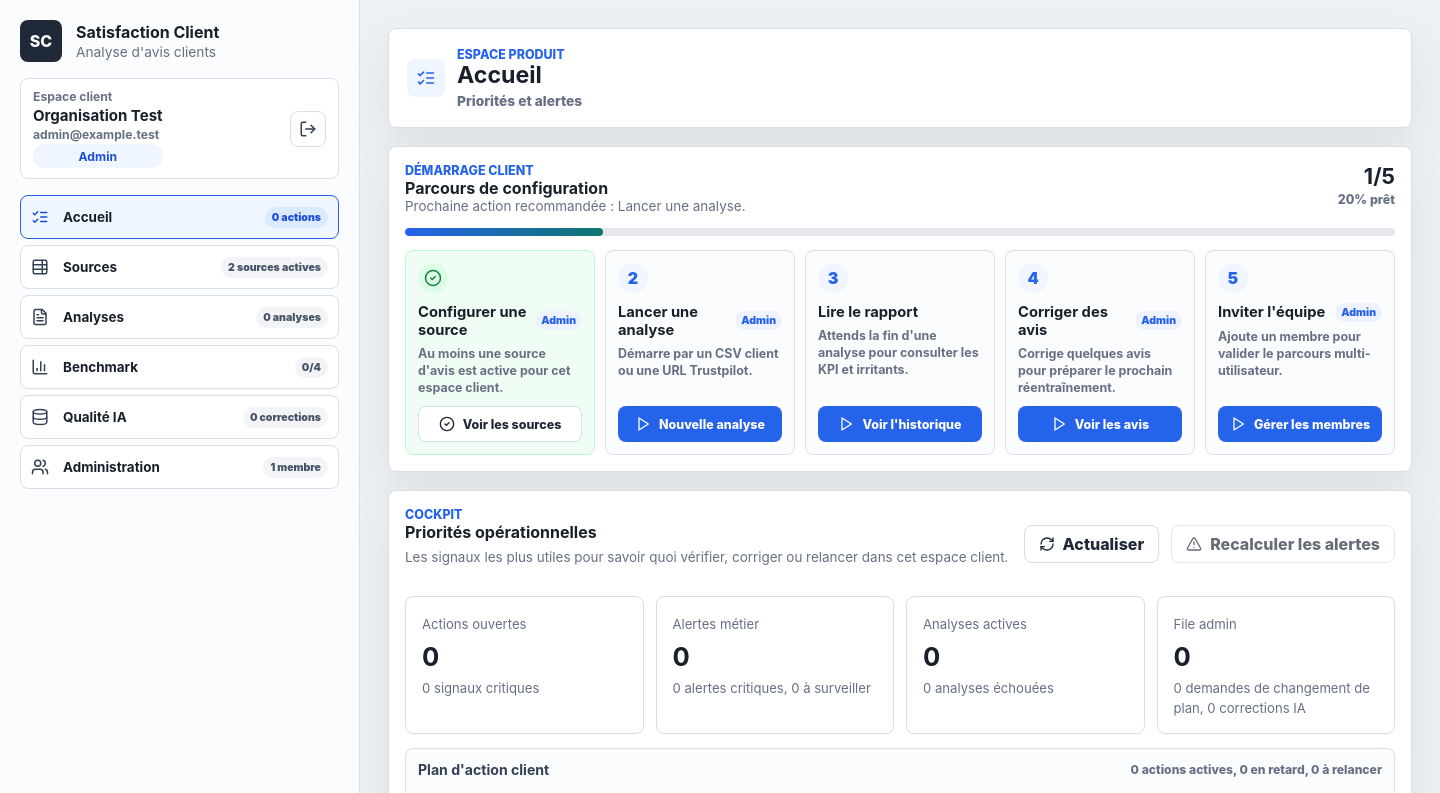
Test: App authentication and permissions › sends the onboarding first-analysis CTA to the analyses form
Expected: the text "admin@example.test" is shown, [33, 127, 163, 142]
Expected: the text "Parcours de configuration" is shown, [405, 178, 608, 198]
Click the button "Nouvelle analyse".
click(700, 424)  # box [618, 406, 782, 442]
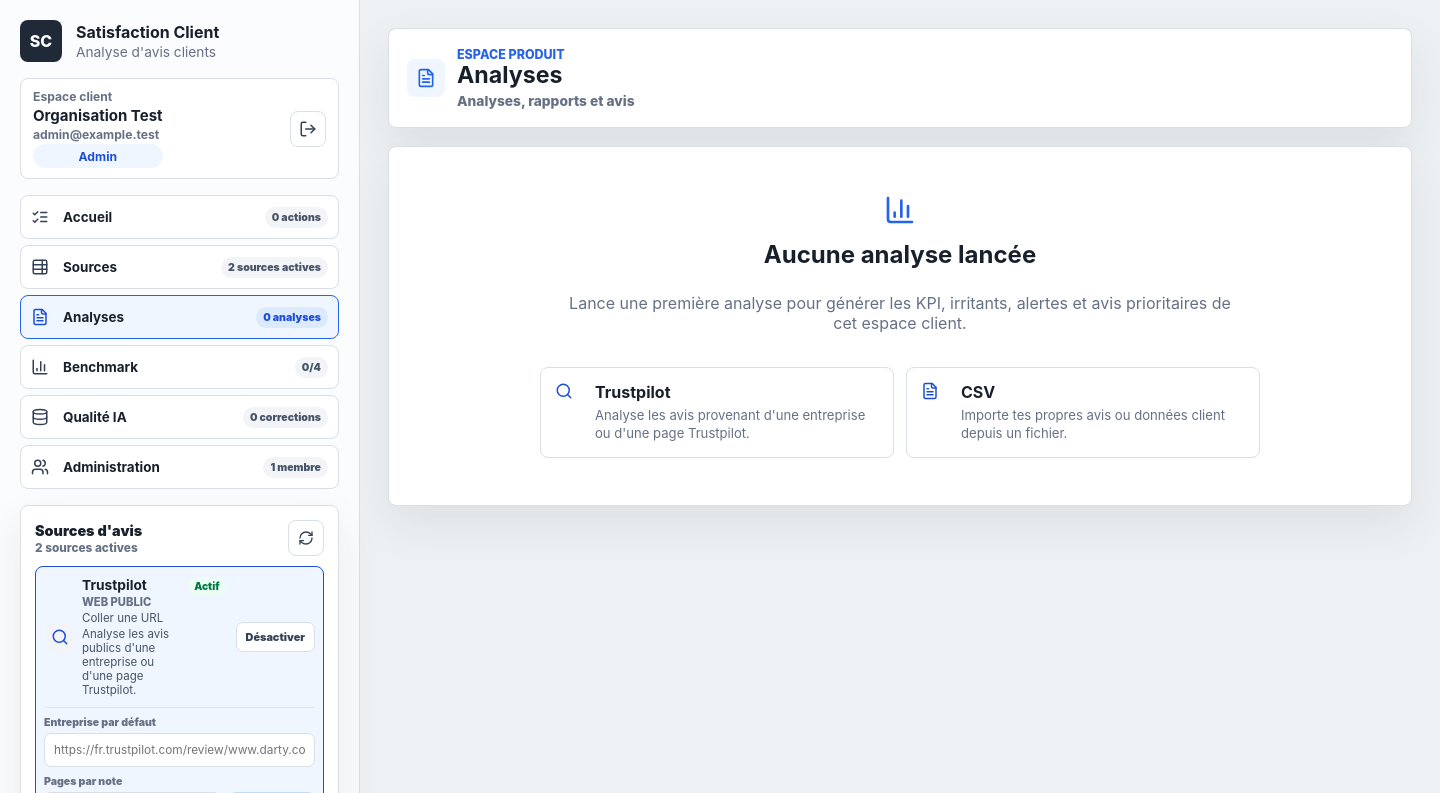
Now the heading "Aucune analyse lancée" is shown, box [764, 240, 1036, 269]
